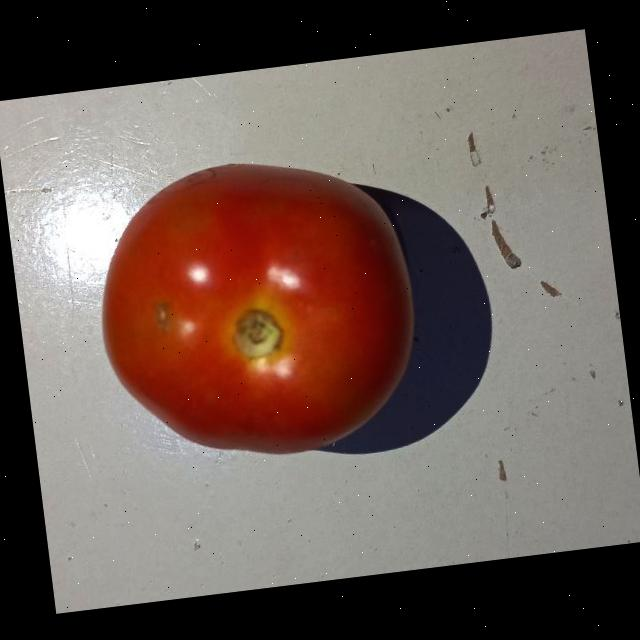tomato: (79, 120, 418, 478)
